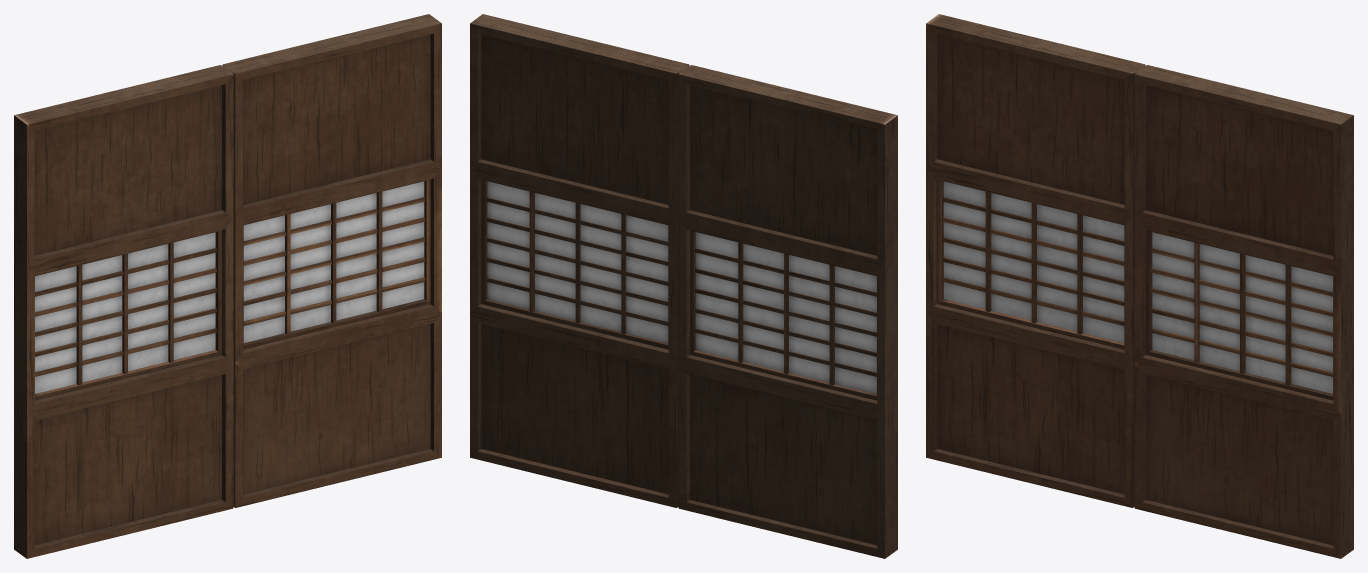
Rendered from Wall_C.fbx.
The picture shows the model from 3 angles, left to right: view 1: azimuth 30°, elevation 25°; view 2: azimuth 150°, elevation 25°; view 3: azimuth 330°, elevation 25°; orthographic projection.
Parts seen in each view (by area): view 1: Wall_C; view 2: Wall_C; view 3: Wall_C.
Part boxes in pixels (box(x1,y1,x2,y2)): Wall_C: box(14, 14, 441, 558); Wall_C: box(470, 14, 897, 558); Wall_C: box(926, 14, 1353, 558).
Bounding box in the file's own units: 400 × 400 × 21.45.
